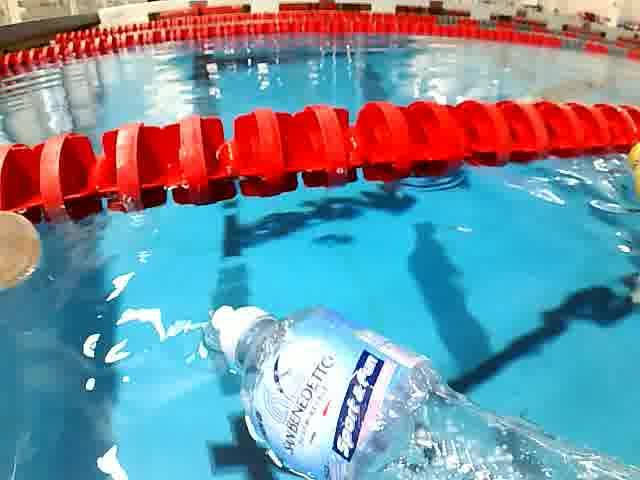Bottle: (197, 295, 640, 480), (0, 201, 51, 298)
Can: (613, 140, 640, 204)
